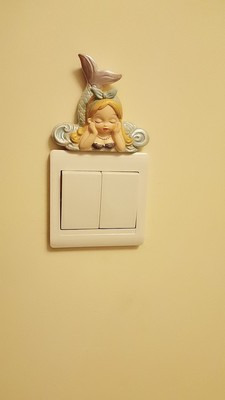switch: (58, 164, 104, 233), (96, 169, 141, 234)
